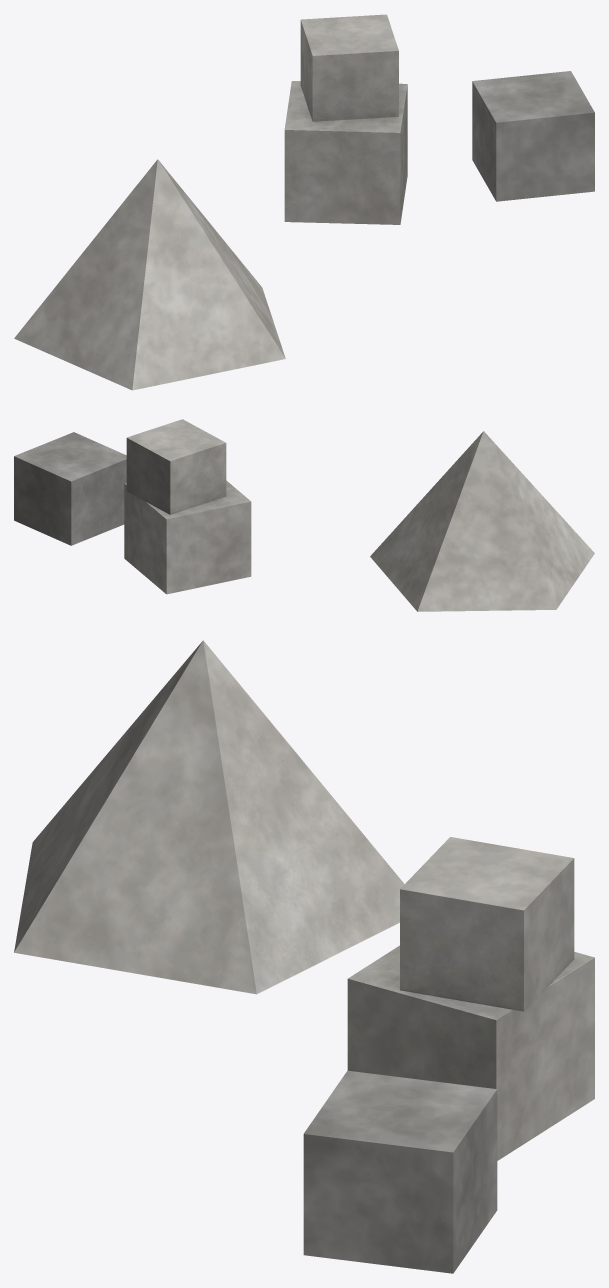
Rendered from res_stone_2.glb.
3 views of the same model, one above another, from view 1: azimuth 30°, elevation 25°; view 2: azimuth 150°, elevation 25°; view 3: azimuth 270°, elevation 25° (orthographic). The views are drawn at different scales.
Visible parts, largest first — view 1: dilek; view 2: dilek; view 3: dilek.
Part boxes in pixels (<box>): dilek: <box>14,14,594,390</box>; dilek: <box>14,419,594,611</box>; dilek: <box>14,640,594,1273</box>.
Bounding box in the file's own units: 0.9722 × 0.26 × 0.5211.
Materials: 1 (1 with a texture image).
